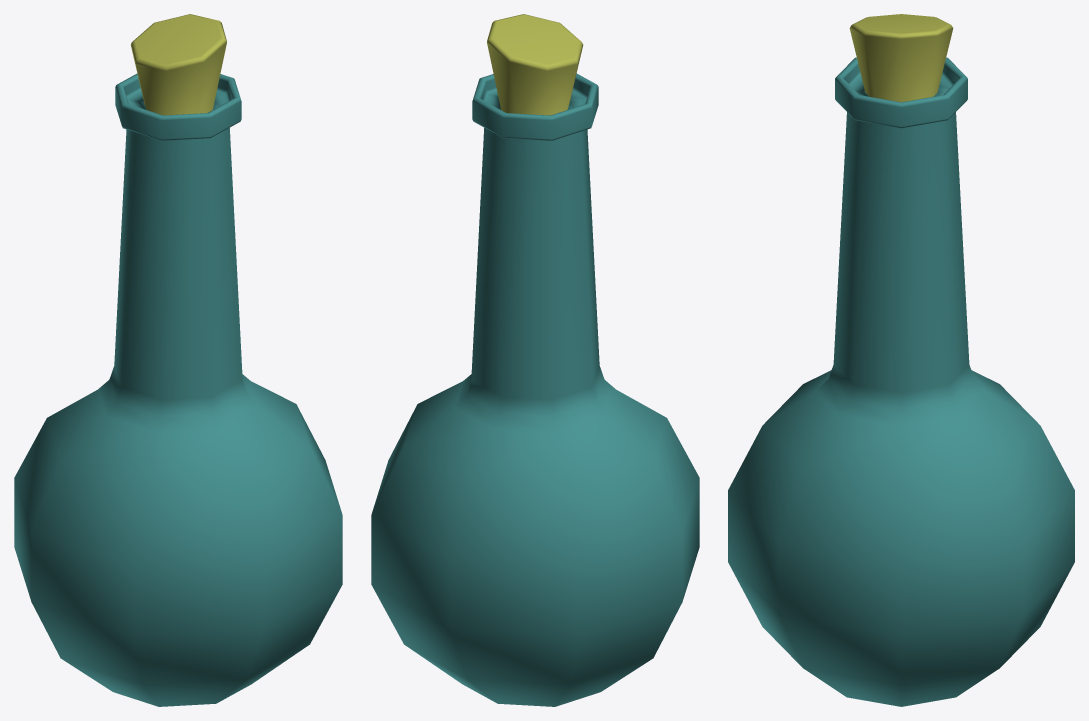
Rendered from SM_Bottle_3.fbx.
The picture shows the model from 3 angles, left to right: view 1: azimuth 30°, elevation 25°; view 2: azimuth 150°, elevation 25°; view 3: azimuth 270°, elevation 25°; orthographic projection. The views are drawn at different scales.
Visible parts, largest first — view 1: pSphere1; view 2: pSphere1; view 3: pSphere1.
Boxes of the visible parts, left/top/right/bottom form: pSphere1: left=14, top=14, right=342, bottom=706; pSphere1: left=371, top=14, right=699, bottom=706; pSphere1: left=728, top=14, right=1074, bottom=706.
Bounding box in the file's own units: 0.1493 × 0.3132 × 0.1493.
